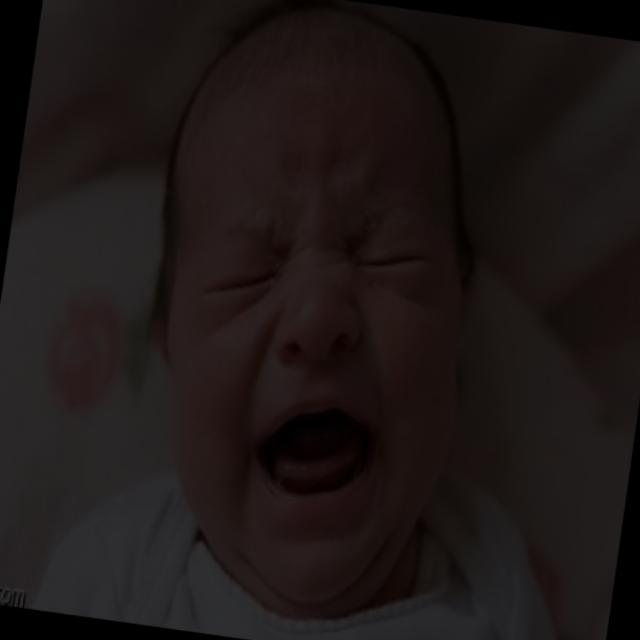Sad: (136, 85, 500, 586)
